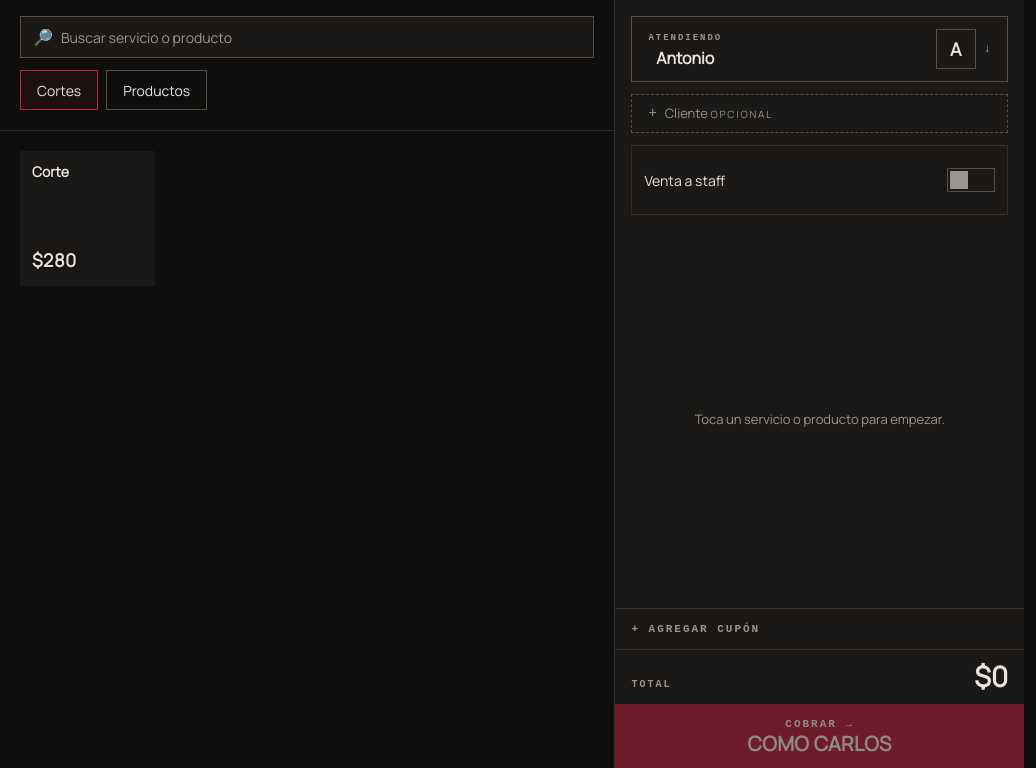
Test: CheckoutPage — rechazo del servidor por datos viejos › venta a staff: el interruptor enciende el modo y el ticket deja de admitir cupones
Expected: the button "+ Agregar cupón" is shown, top-left (631, 620), bottom-right (760, 637)
Click the switch labelled "Venta a staff".
click(685, 180)  # box top-left (644, 156), bottom-right (995, 204)
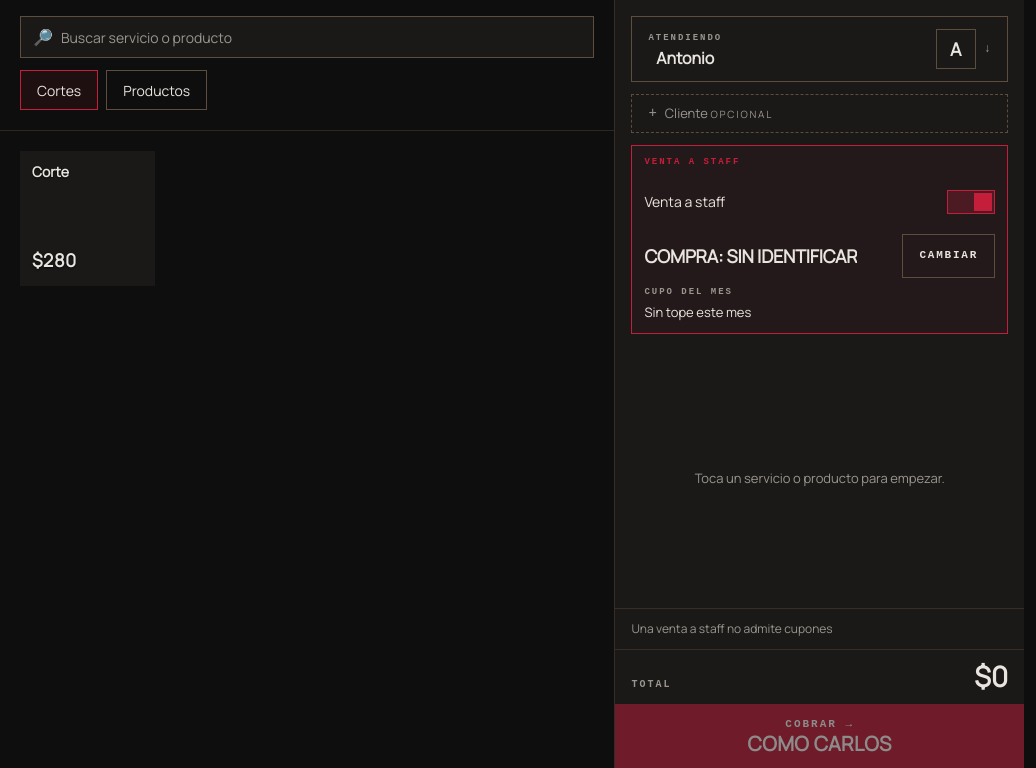
Expected: the element "Cupo del mes" shows "Sin tope este mes", top-left (644, 303), bottom-right (751, 321)
Expected: the button "Agregar cupón" is gone
Expected: the text "Una venta a staff no admite cupones" is shown, top-left (615, 608), bottom-right (1024, 649)
